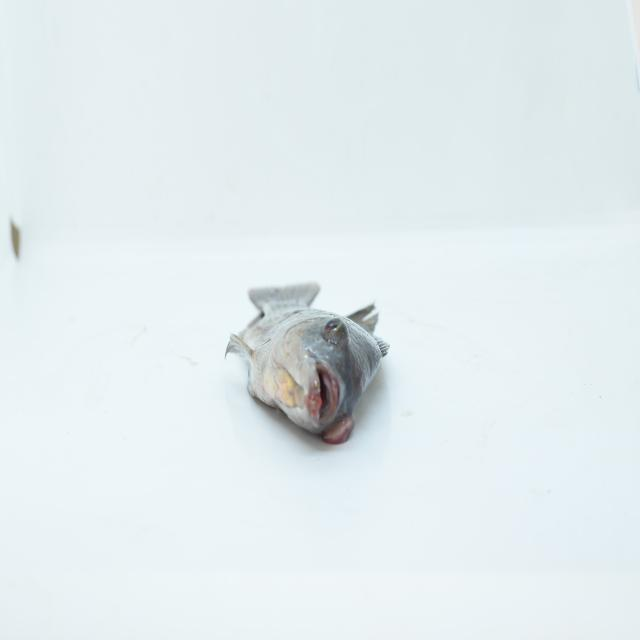Columnaris Disease: (202, 230, 439, 493)
